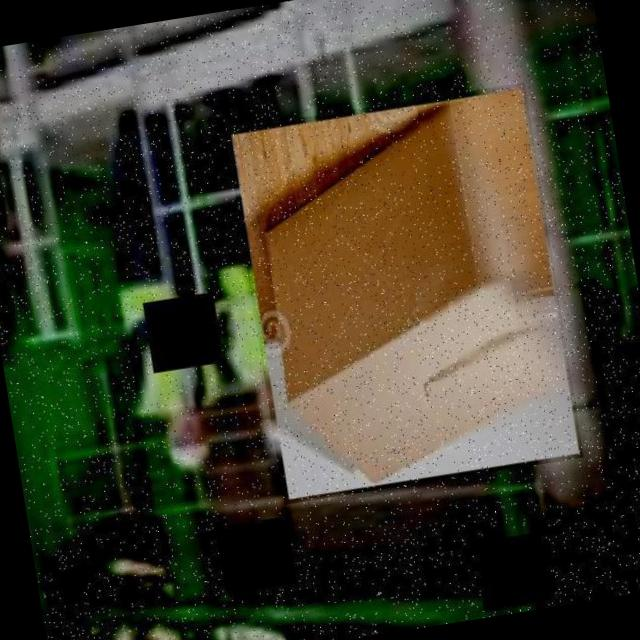box: (225, 82, 584, 505)
